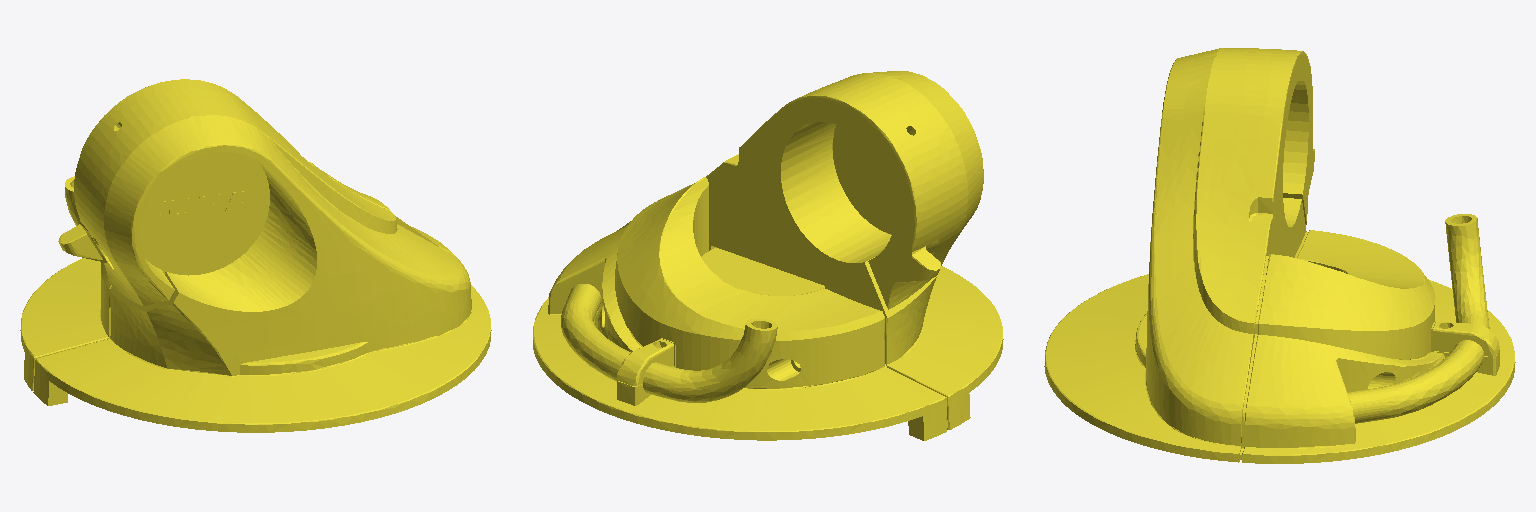
URDF robot description (youbot):
<?xml version="1.0" encoding="utf-8"?>
<!-- =================================================================================== -->
<!-- |    This document was autogenerated by xacro from youbot.urdf.xacro              | -->
<!-- |    EDITING THIS FILE BY HAND IS NOT RECOMMENDED                                 | -->
<!-- =================================================================================== -->
<robot name="youbot"
  xmlns:controller="http://playerstage.sourceforge.net/gazebo/xmlschema/#controller"
  xmlns:interface="http://playerstage.sourceforge.net/gazebo/xmlschema/#interface"
  xmlns:sensor="http://playerstage.sourceforge.net/gazebo/xmlschema/#sensor">
  <!-- sensors -->
  <!-- <xacro:include filename="$(find youbot_description)/urdf/youbot_base/base.gazebo.xacro"/> -->
  <!-- <xacro:include filename="$(find youbot_description)/urdf/youbot_base/base.transmission.xacro"/> -->
  &gt;


    <!-- Now we can start using the macros xacro:included above to define the actual youbot -->
  <!-- The first use of a macro.  This one was defined in base.urdf.xacro above.
       A macro like this will expand to a set of link and joint definitions, and to additional
       Gazebo-related extensions (sensor plugins, etc).  The macro takes an argument, name, 
       that equals "base", and uses it to generate names for its component links and joints 
       (e.g., base_link).  The xacro:included origin block is also an argument to the macro.  By convention, 
       the origin block defines where the component is w.r.t its parent (in this case the parent 
       is the world frame). For more, see http://www.ros.org/wiki/xacro -->

  <link name="base_link">

    <visual>
      <origin rpy="0 0 0" xyz="0 0 0"/>
      <geometry>
        <mesh filename="base.obj"/>
      </geometry>

    </visual>

  </link>
  <!-- front left wheel -->
  <joint name="caster_joint_fl" type="continuous">
    <origin rpy="0 0 0" xyz="0.228 0.158 -0.034"/>
    <axis xyz="0 0 1"/>
    <limit effort="30" velocity="10"/>
    <dynamics damping="1.0" friction="1.0"/>
    <safety_controller k_velocity="10.0"/>
    <parent link="base_link"/>
    <child link="caster_link_fl"/>
  </joint>
  <link name="caster_link_fl">

  </link>
  <joint name="wheel_joint_fl" type="continuous">
    <axis xyz="0 1 0"/>
    <limit effort="30" velocity="10"/>
    <origin rpy="0 0 0" xyz="0.0 0.0 0.0"/>
    <parent link="caster_link_fl"/>
    <dynamics damping="1.0" friction="1.0"/>
    <safety_controller k_velocity="10.0"/>
    <child link="wheel_link_fl"/>
  </joint>
  <link name="wheel_link_fl">

    <visual>
      <origin rpy="0 0 0" xyz="0 0 0"/>

      <geometry>
        <mesh filename="youbot_wheel.stl" />
        <sphere radius="0.05"/>
      </geometry>

    </visual>
    <collision>
      <origin rpy="1.57079632679 0 0" xyz="0 0 0"/>
      <geometry>
        <cylinder length="0.05" radius="0.05"/>
      </geometry>
    </collision>
  </link>
  <!-- front right wheel -->
  <joint name="caster_joint_fr" type="continuous">
    <origin rpy="0 0 0" xyz="0.228 -0.158 -0.034"/>
    <axis xyz="0 0 1"/>
    <limit effort="30" velocity="10"/>
    <dynamics damping="1.0" friction="1.0"/>
    <safety_controller k_velocity="10.0"/>
    <parent link="base_link"/>
    <child link="caster_link_fr"/>
  </joint>
  <link name="caster_link_fr">

  </link>
  <joint name="wheel_joint_fr" type="continuous">
    <axis xyz="0 1 0"/>
    <limit effort="30" velocity="10"/>
    <dynamics damping="1.0" friction="1.0"/>
    <safety_controller k_velocity="10.0"/>
    <origin rpy="0 0 0" xyz="0.0 0.0 0.0"/>
    <parent link="caster_link_fr"/>
    <child link="wheel_link_fr"/>
  </joint>
  <link name="wheel_link_fr">

    <visual>
      <origin rpy="0 0 0" xyz="0 0 0"/>
      <geometry>
        <mesh filename="youbot_wheel.stl" />
        <sphere radius="0.05"/>
      </geometry>

    </visual>
    <collision>
      <origin rpy="1.57079632679 0 0" xyz="0 0 0"/>
      <geometry>
        <cylinder length="0.05" radius="0.05"/>
      </geometry>
    </collision>
  </link>
  <!-- back left wheel -->
  <joint name="caster_joint_bl" type="continuous">
    <origin rpy="0 0 0" xyz="-0.228 0.158 -0.034"/>
    <axis xyz="0 0 1"/>
    <limit effort="30" velocity="10"/>
    <dynamics damping="1.0" friction="1.0"/>
    <safety_controller k_velocity="10.0"/>
    <parent link="base_link"/>
    <child link="caster_link_bl"/>
  </joint>
  <link name="caster_link_bl">

  </link>
  <joint name="wheel_joint_bl" type="continuous">
    <axis xyz="0 1 0"/>
    <limit effort="10" velocity="10"/>
    <limit effort="30" velocity="10"/>
    <dynamics damping="1.0" friction="1.0"/>
    <safety_controller k_velocity="10.0"/>
    <origin rpy="0 0 0" xyz="0.0 0.0 0.0"/>
    <parent link="caster_link_bl"/>
    <child link="wheel_link_bl"/>
  </joint>
  <link name="wheel_link_bl">

    <visual>
      <origin rpy="0 0 0" xyz="0 0 0"/>
      <geometry>
        <mesh filename="youbot_wheel.stl" />
        <sphere radius="0.05"/>
      </geometry>

    </visual>
    <collision>
      <origin rpy="1.57079632679 0 0" xyz="0 0 0"/>
      <geometry>
        <cylinder length="0.05" radius="0.05"/>
      </geometry>
    </collision>
  </link>
  <!-- back right wheel -->
  <joint name="caster_joint_br" type="continuous">
    <origin rpy="0 0 0" xyz="-0.228 -0.158 -0.034"/>
    <axis xyz="0 0 1"/>
    <limit effort="30" velocity="10"/>
    <dynamics damping="1.0" friction="1.0"/>
    <safety_controller k_velocity="10.0"/>
    <parent link="base_link"/>
    <child link="caster_link_br"/>
  </joint>
  <link name="caster_link_br">

  </link>
  <joint name="wheel_joint_br" type="continuous">
    <axis xyz="0 1 0"/>
    <limit effort="30" velocity="10"/>
    <dynamics damping="1.0" friction="1.0"/>
    <safety_controller k_velocity="10.0"/>
    <origin rpy="0 0 0" xyz="0.0 0.0 0.0"/>
    <parent link="caster_link_br"/>
    <child link="wheel_link_br"/>
  </joint>
  <link name="wheel_link_br">

    <visual>
      <origin rpy="0 0 0" xyz="0 0 0"/>
      <geometry>
        <mesh filename="youbot_wheel.stl" />
        <sphere radius="0.05"/>
      </geometry>

    </visual>
    <collision>
      <origin rpy="1.57079632679 0 0" xyz="0 0 0"/>
      <geometry>
        <cylinder length="0.05" radius="0.05"/>
      </geometry>
    </collision>
  </link>
  <!-- extensions -->
  <!-- <xacro:youbot_base_gazebo/> -->
  <!-- <xacro:youbot_base_transmission/> -->
  <!-- joint between arm_7_link and sdh_palm_link -->
  <joint name="plate_joint" type="fixed">
    <origin rpy="0 0 0" xyz="-0.159 0 0.046"/>
    <parent link="base_link"/>
    <child link="plate_link"/>
  </joint>
  <link name="plate_link">

    <visual>
      <origin rpy="0 0 0" xyz="0 0 0"/>
      <geometry>
        <mesh filename="plate.obj"/>
      </geometry>

    </visual>

  </link>
  <!-- extensions -->
  <!-- joint between base_link and arm_0_link -->
  <joint name="arm_joint_0" type="fixed">
    <origin rpy="0 0 0" xyz="0.143 0 0.046"/>
    <parent link="base_link"/>
    <child link="arm_link_0"/>
  </joint>
  <link name="arm_link_0">

    <visual>
      <origin rpy="0 0 0" xyz="0 0 0"/>
      <geometry>
        <mesh filename="arm0.obj"/>
      </geometry>

    </visual>
    <!-- <collision>

      <origin rpy="0 0 0" xyz="0 0 0"/>
      <geometry>
        <mesh filename="arm0_convex.obj"/>

      </geometry>
    </collision> -->
  </link>
  <!-- joint between arm_0_link and arm_1_link -->
  <joint name="arm_joint_1" type="revolute">
    <origin rpy="0 0 2.96705972839" xyz="0.024 0 0.096"/>
    <parent link="arm_link_0"/>
    <child link="arm_link_1"/>
    <axis xyz="0 0 -1"/>
    <!--<calibration rising="${arm_1_ref}" falling="${arm_1_ref}"/>-->
    <dynamics damping="1" friction="1"/>
    <!-- damping - N*s/m, N*s*m/rad -->
    <!-- friction - N, N*m -->
    <limit effort="9.5" lower="0" upper="5.89921287174" velocity="1.57079632679"/>
    <!--effort - N, N*m-->
    <!--velocity - m/s, rad/s-->
    <safety_controller k_position="20" k_velocity="1.51197195937" soft_lower_limit="0.001" soft_upper_limit="5.89821287174"/>
    <!--k_position N/m, N/rad-->
    <!--k_velocity N*s/m, N*s*m/rad-->
    <!--for details: http://www.ros.org/wiki/pr2_controller_manager/safety_limits-->
  </joint>
  <link name="arm_link_1">

    <visual>
      <origin rpy="0 0 0" xyz="0 0 0"/>
      <geometry>
        <mesh filename="arm1.obj"/>
      </geometry>

    </visual>

  </link>
  <!-- joint between arm_1_link and arm_2_link -->
  <joint name="arm_joint_2" type="revolute">
    <origin rpy="0 -1.1344640138 0" xyz="0.033 0 0.019"/>
    <parent link="arm_link_1"/>
    <child link="arm_link_2"/>
    <axis xyz="0 1 0"/>
    <!--<calibration rising="${arm_2_ref}" falling="${arm_2_ref}"/>-->
    <dynamics damping="1" friction="1"/>
    <limit effort="9.5" lower="0" upper="2.70526034059" velocity="1.57079632679"/>
    <safety_controller k_position="20" k_velocity="6.04788783749" soft_lower_limit="0.001" soft_upper_limit="2.70426034059"/>
  </joint>
  <link name="arm_link_2">

    <visual>
      <origin rpy="0 0 0" xyz="0 -0.032 0.078"/>
      <geometry>
        <mesh filename="arm2.obj"/>
      </geometry>

    </visual>

  </link>

  <joint name="arm_joint_3" type="revolute">
    <origin rpy="0 2.54818070791 0" xyz="0.000 0.000 0.155"/>
    <parent link="arm_link_2"/>
    <child link="arm_link_3"/>
    <axis xyz="0 1 0"/>
    <dynamics damping="1" friction="1"/>
    <limit effort="6" lower="-5.18362787842" upper="0" velocity="1.57079632679"/>
    <safety_controller k_position="20" k_velocity="50" soft_lower_limit="-5.18262787842" soft_upper_limit="-0.001"/>
  </joint>
  <link name="arm_link_3">

    <visual>
      <origin rpy="0 0 0" xyz="0.000 0.028 0.079"/>
      <geometry>
        <mesh filename="arm3.obj"/>
      </geometry>

    </visual>

  </link>
  <!-- joint between arm_3_link and arm_4_link -->
  <joint name="arm_joint_4" type="revolute">
    <origin rpy="0 -1.78896248329 0" xyz="0.000 0.000 0.135"/>
    <parent link="arm_link_3"/>
    <child link="arm_link_4"/>
    <axis xyz="0 1 0"/>
    <!--<calibration rising="${arm_4_ref}" falling="${arm_4_ref}"/>-->
    <dynamics damping="1" friction="1"/>
    <limit effort="2" lower="0" upper="3.57792496659" velocity="1.57079632679"/>
    <safety_controller k_position="20" k_velocity="100" soft_lower_limit="0" soft_upper_limit="3.57692496659"/>
  </joint>
  <link name="arm_link_4">

    <visual>
      <origin rpy="0 0 0" xyz="0 -0.010 0.029"/>
      <geometry>
        <mesh filename="arm4.obj"/>
      </geometry>

    </visual>

  </link>
  <!-- joint between arm_4_link and arm_5_link -->
  <joint name="arm_joint_5" type="revolute">
    <origin rpy="0 0 2.92342649709" xyz="-0.002 0 0.130"/>
    <parent link="arm_link_4"/>
    <child link="arm_link_5"/>
    <axis xyz="0 0 -1"/>
    <!--<calibration rising="${arm_5_ref}" falling="${arm_5_ref}"/>-->
    <dynamics damping="1" friction="1"/>
    <limit effort="1" lower="0" upper="5.84685299418" velocity="1.57079632679"/>
    <safety_controller k_position="20" k_velocity="100" soft_lower_limit="0" soft_upper_limit="5.84585299418"/>
  </joint>
  <link name="arm_link_5">

    <visual>
      <origin rpy="0 0 0" xyz="0.003 0 -0.034"/>
      <geometry>
        <mesh filename="arm5.obj"/>
      </geometry>

    </visual>

  </link>

  <!-- joint between arm_7_link and sdh_palm_link -->
  <joint name="gripper_palm_joint" type="fixed">
    <origin rpy="0 0 0" xyz="0 0 0"/>
    <parent link="arm_link_5"/>
    <child link="gripper_palm_link"/>
  </joint>
  <link name="gripper_palm_link">

    <visual>
      <origin rpy="0 0 0" xyz="0 0 0"/>
      <geometry>
        <mesh filename="palm.obj"/>
      </geometry>

    </visual>

  </link>
  <joint name="gripper_finger_joint_l" type="prismatic">
    <origin rpy="0 0 3.14159265359" xyz="0.004 0.008 0.046"/>
    <parent link="gripper_palm_link"/>
    <child link="gripper_finger_link_l"/>
    <axis xyz="0 -1 0"/>
    <dynamics damping="1.0" friction="1.0"/>
    <limit effort="1" lower="0" upper="0.0115" velocity="0.1"/>
    <safety_controller k_position="20" k_velocity="25" soft_lower_limit="0.001" soft_upper_limit="0.011"/>
  </joint>
  <link name="gripper_finger_link_l">
    <visual>
      <origin rpy="0 0 0" xyz="0 0 0"/>
      <geometry>
        <mesh filename="finger.obj"/>
      </geometry>
      <material name="Black"/>
    </visual>

  </link>
  <joint name="gripper_finger_joint_r" type="prismatic">
    <origin rpy="0 0 0" xyz="0.004 -0.008 0.046"/>
    <parent link="gripper_palm_link"/>
    <child link="gripper_finger_link_r"/>
    <axis xyz="0 -1 0"/>
    <dynamics damping="1.0" friction="1.0"/>
    <limit effort="1" lower="0" upper="0.0115" velocity="0.1"/>
    <safety_controller k_position="20" k_velocity="25" soft_lower_limit="0.001" soft_upper_limit="0.011"/>
  </joint>
  <link name="gripper_finger_link_r">
    <visual>
      <origin rpy="0 0 0" xyz="0 0 0"/>
      <geometry>
        <mesh filename="finger.obj"/>
      </geometry>
      <material name="Black"/>
    </visual>
  </link>

  <joint name="base_laser_front_hokuyo_urg04_laser_joint" type="fixed">
    <axis xyz="0 1 0"/>
    <origin rpy="0 0 0" xyz="0.3 0 -0.03"/>
    <parent link="base_link"/>
    <child link="base_laser_front_link"/>
  </joint>
  <link name="base_laser_front_link" type="laser">

    <visual>
      <origin rpy="0 0 0" xyz="0 0 0"/>
      <geometry>
        <mesh filename="hokuyo.obj"/>
      </geometry>
    </visual>

  </link>
</robot>

--- Facts derived from the render (not from the file) ---
3 views of the same robot in one strip: view 1: azimuth 30°, elevation 25°; view 2: azimuth 150°, elevation 25°; view 3: azimuth 270°, elevation 25° (orthographic).
Model youbot with 20 links and 19 joints (5 revolute, 8 continuous, 2 prismatic, 4 fixed), rooted at base_link, posed all joints at 0.
Visible links, largest first — view 1: arm_link_1; view 2: arm_link_1; view 3: arm_link_1.
Link boxes in pixels (<box>): arm_link_1: <box>20,79,491,432</box>; arm_link_1: <box>533,71,1003,440</box>; arm_link_1: <box>1044,48,1515,463</box>.
Bounding box of the posed robot: 6.31 × 6.29 × 4.88 m (x, y, z).
Meshes: 12 distinct files referenced, 12 mesh visuals loaded (11 OBJ); not drawn: 4 (reference not matched to a file when rendering).